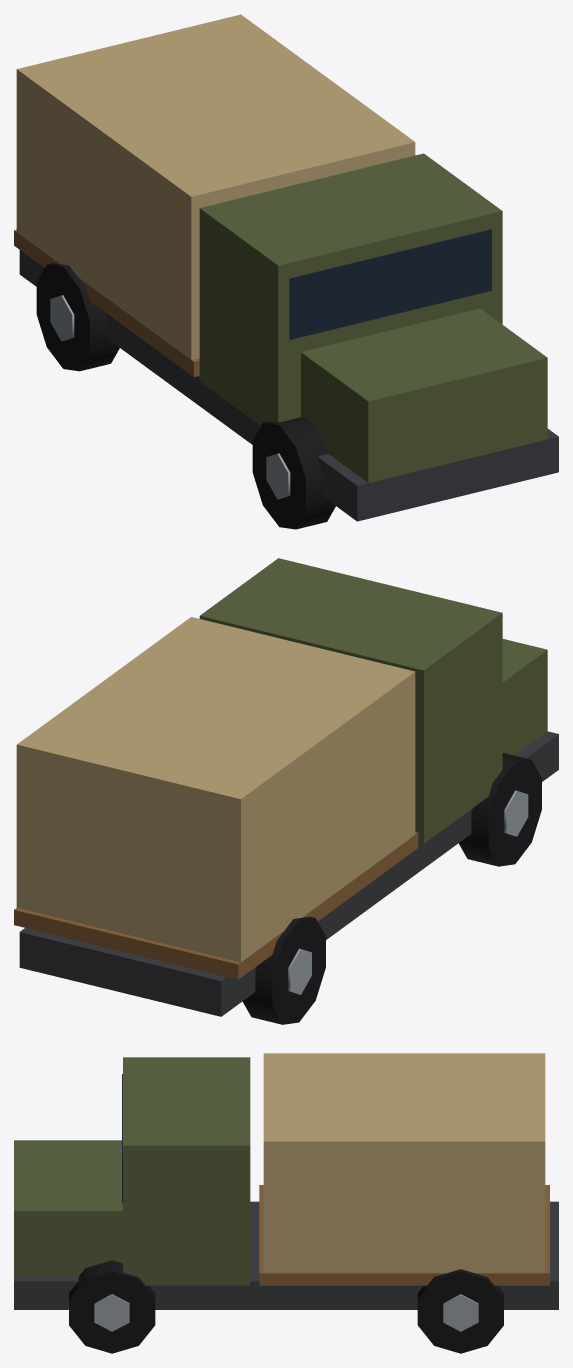
Rendered from veh_ground_truck_a06.glb.
3 views of the same model, one above another, from view 1: azimuth 30°, elevation 25°; view 2: azimuth 150°, elevation 25°; view 3: azimuth 270°, elevation 25° (orthographic). The views are drawn at different scales.
Parts seen in each view (by area): view 1: body, wheel_2, wheel_0; view 2: body, wheel_2, wheel_0; view 3: body, wheel_3, wheel_1.
Boxes of the visible parts, x1,y1,x2,y2 form: body: (14, 14, 558, 521); wheel_2: (252, 417, 335, 529); wheel_0: (36, 263, 119, 371); body: (14, 558, 558, 1016); wheel_2: (458, 753, 541, 866); wheel_0: (242, 916, 325, 1024); body: (14, 1053, 558, 1309); wheel_3: (69, 1260, 155, 1353); wheel_1: (417, 1269, 503, 1353).
Size of what is drawn, in the model's own units: 2.46 by 2.55 by 6.
